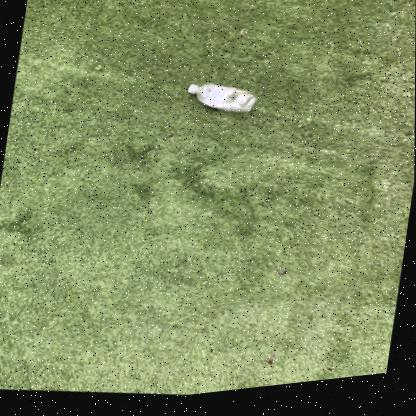Plastic: (188, 88, 257, 117)
